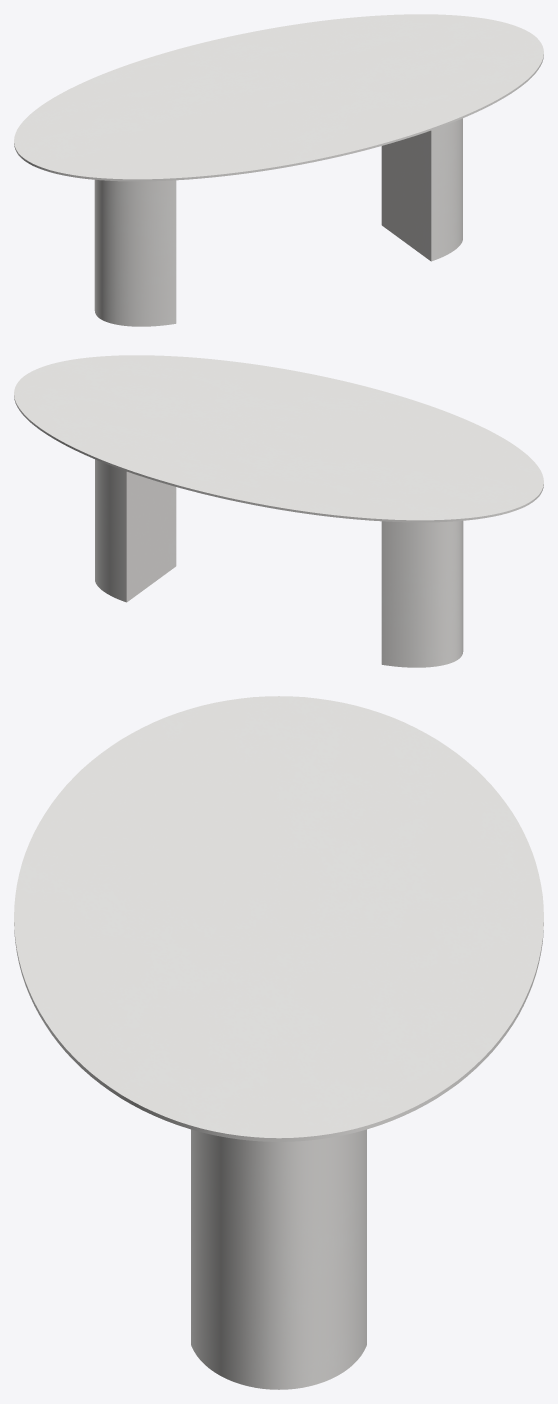
File: purewhite_ellips_facet_hillside.glb
The picture shows the model from 3 angles, top to bottom: view 1: azimuth 30°, elevation 25°; view 2: azimuth 150°, elevation 25°; view 3: azimuth 270°, elevation 25°; orthographic projection. The views are drawn at different scales.
Visible parts, largest first — view 1: facet_ellips, hillside; view 2: facet_ellips, hillside; view 3: facet_ellips, hillside.
Boxes of the visible parts, x1,y1,x2,y2 form: facet_ellips: (14, 14, 543, 181); hillside: (94, 118, 462, 326); facet_ellips: (14, 355, 543, 522); hillside: (95, 459, 463, 667); facet_ellips: (14, 696, 543, 1141); hillside: (191, 1129, 366, 1389).
Bounding box in the file's own units: 7.5 × 2.51 × 3.8.
1 material, 1 textured.
